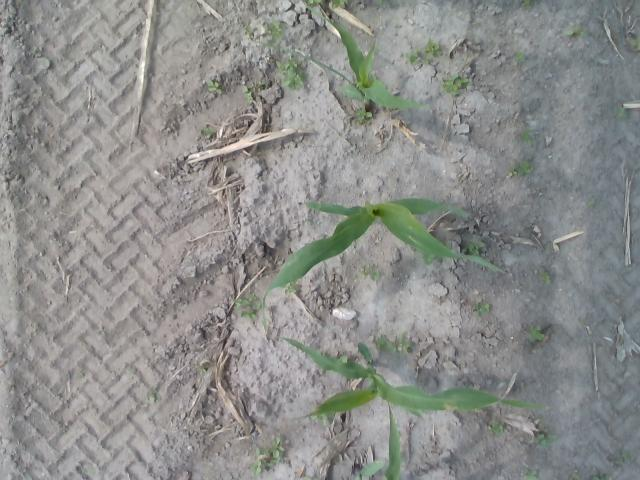Maize: (260, 198, 508, 308), (282, 336, 540, 418), (296, 2, 414, 110), (359, 398, 404, 480)
Weeds: (278, 60, 305, 90), (270, 434, 285, 460), (524, 324, 542, 342), (444, 76, 464, 92), (362, 262, 378, 279), (483, 209, 499, 225), (356, 107, 372, 123), (427, 39, 442, 56), (267, 21, 284, 36), (374, 337, 394, 349), (397, 337, 413, 350), (539, 266, 550, 284), (538, 431, 553, 444), (516, 161, 532, 173), (520, 128, 532, 144), (208, 80, 221, 94), (468, 242, 484, 253), (474, 301, 490, 312), (523, 469, 540, 479), (255, 447, 268, 460), (242, 86, 254, 99), (200, 127, 214, 138), (241, 309, 256, 319), (249, 460, 261, 472), (284, 284, 298, 294), (490, 424, 504, 434), (408, 50, 418, 63), (568, 27, 581, 37), (238, 296, 254, 304), (516, 52, 526, 64), (618, 103, 626, 116), (590, 474, 606, 480), (509, 168, 517, 178), (589, 194, 595, 207)
